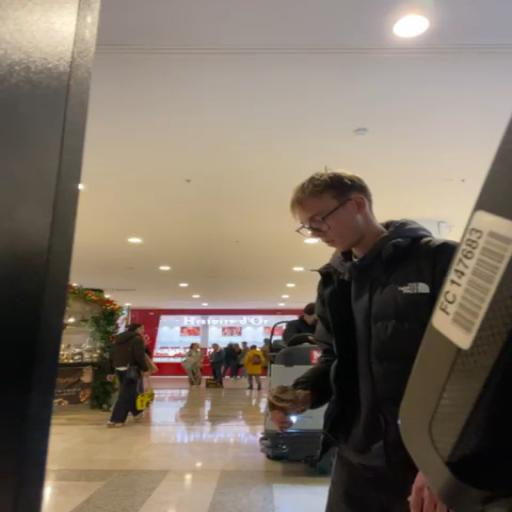kendama_ball: (269, 385, 295, 406)
